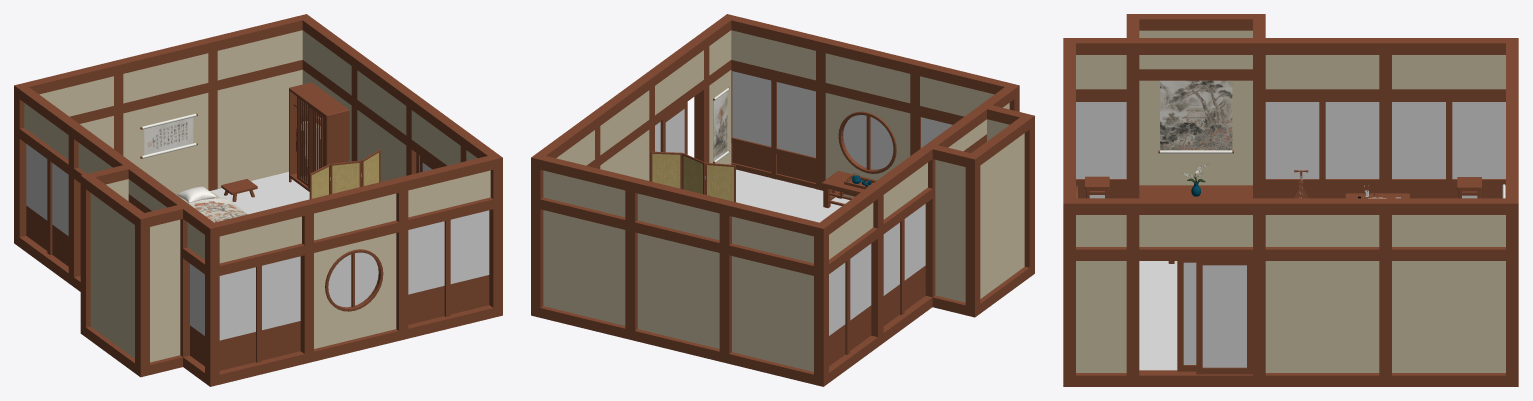
3 renders of one model, left to right at view 1: azimuth 30°, elevation 25°; view 2: azimuth 150°, elevation 25°; view 3: azimuth 270°, elevation 25°, orthographic. The views are drawn at different scales.
Visible parts, largest first — view 1: Cube.134, Cube.042, Cube.012, Cube.061, Cube.019, Wall.101, Cube.006, Cube.162, Cube.007, Cube.163, Cube.008, Cube.044 (+70 smaller); view 2: Cube.042, Cube.061, Cube.045, Cube.134, Cube.012, Cube.018, Cube.006, Cube.007, Wall.102, Cube.014, Cube.135, Cube.017 (+67 smaller); view 3: Cube.020, Cube.032, Cube.012, Cube.149, Wall.098, Cube.050, Cube.176, Cube.173, Cube.177, Cube.026, Cube.174, Cube.161 (+48 smaller).
Part boxes in pixels (<box>): Cube.134: <box>314,233,396,348</box>; Cube.042: <box>217,69,302,188</box>; Cube.012: <box>90,193,134,358</box>; Cube.061: <box>123,93,208,196</box>; Cube.019: <box>150,219,180,362</box>; Wall.101: <box>205,305,502,386</box>; Cube.006: <box>450,210,489,314</box>; Cube.162: <box>262,256,300,360</box>; Cube.007: <box>408,221,444,324</box>; Cube.163: <box>219,267,255,370</box>; Cube.008: <box>289,82,349,191</box>; Cube.044: <box>217,30,302,80</box>; Cube.042: <box>543,210,625,325</box>; Cube.061: <box>637,233,719,348</box>; Cube.045: <box>732,256,813,371</box>; Cube.134: <box>825,93,910,197</box>; Cube.012: <box>980,133,1024,298</box>; Cube.018: <box>935,160,965,302</box>; Cube.006: <box>731,70,771,177</box>; Cube.007: <box>776,80,815,188</box>; Wall.102: <box>540,306,828,386</box>; Cube.014: <box>650,151,735,201</box>; Cube.135: <box>825,53,910,103</box>; Cube.017: <box>731,30,815,80</box>; Cube.020: <box>1265,261,1379,372</box>; Cube.032: <box>1392,261,1505,372</box>; Cube.012: <box>1139,30,1252,185</box>; Cube.149: <box>1196,261,1252,374</box>; Wall.098: <box>1076,370,1518,386</box>; Cube.050: <box>1076,261,1126,372</box>; Cube.176: <box>1265,100,1319,198</box>; Cube.173: <box>1392,100,1445,198</box>; Cube.177: <box>1325,100,1379,198</box>; Cube.026: <box>1160,80,1232,150</box>; Cube.174: <box>1452,100,1505,198</box>; Cube.161: <box>1076,100,1126,198</box>.
Size of the model in its own units: 710 by 320 by 720.
19 materials, 4 textured.
